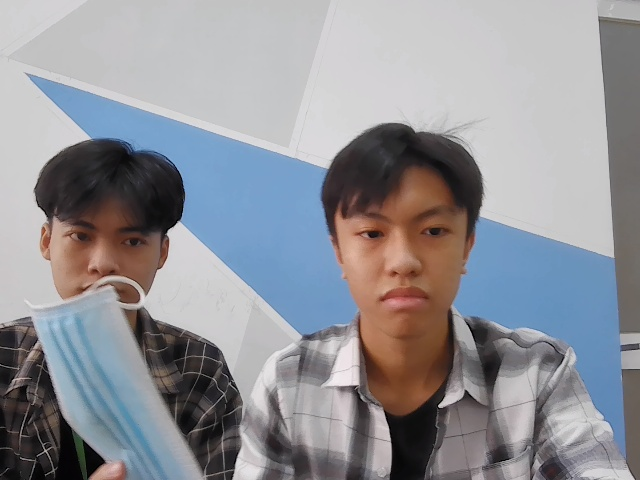human: (322, 123, 485, 339), (37, 139, 185, 317)
mask: (23, 291, 208, 480)
